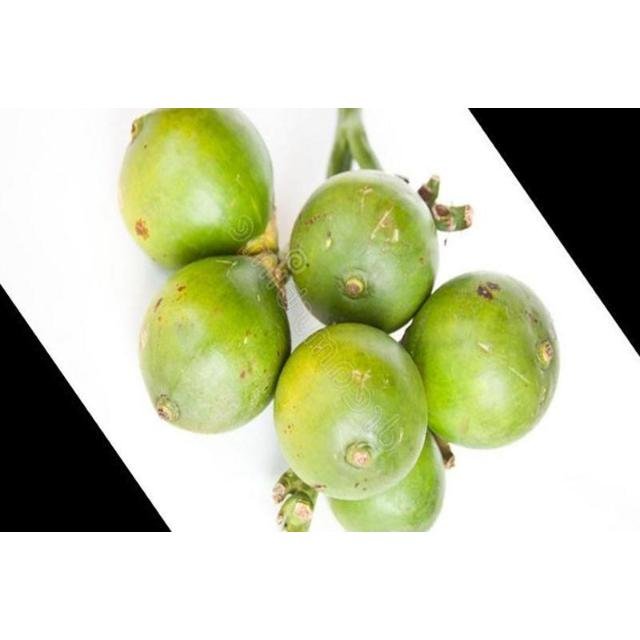good: (271, 323, 446, 532), (401, 273, 560, 451), (139, 256, 292, 438), (117, 108, 275, 272), (287, 170, 437, 339)
